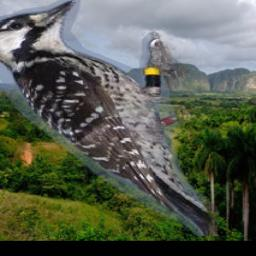Woodpecker: (0, 0, 216, 236)
